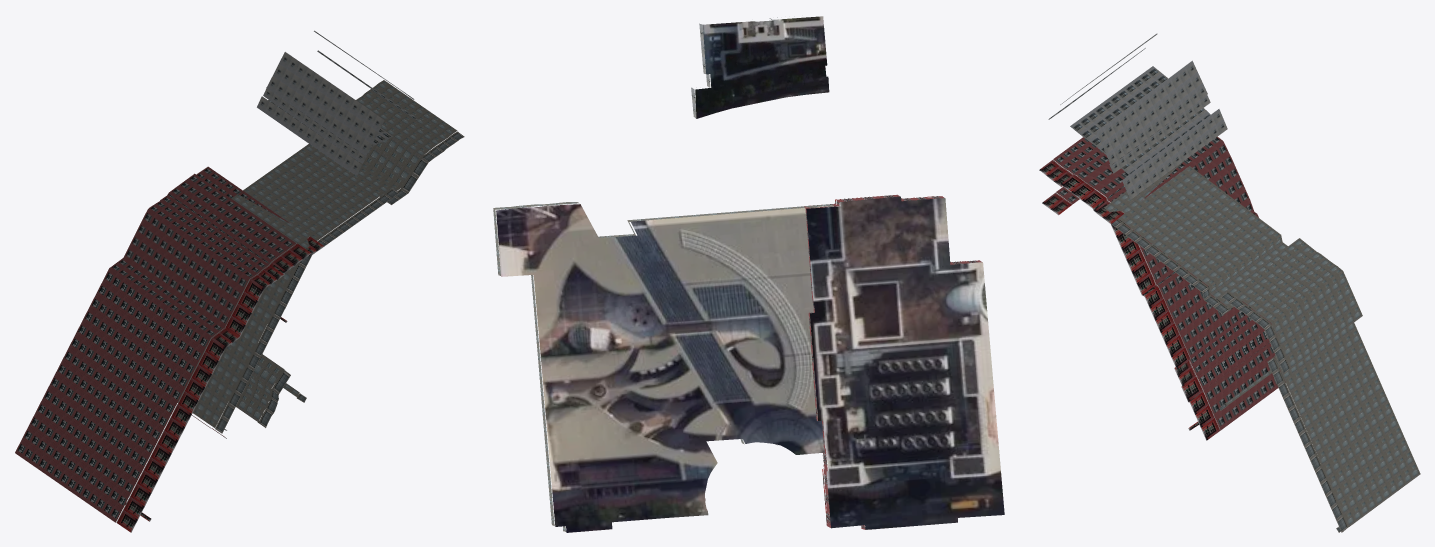
The model's file is tile_LOD4_r6_c15.glb.
3 renders of one model, left to right at view 1: azimuth 30°, elevation 25°; view 2: azimuth 150°, elevation 25°; view 3: azimuth 270°, elevation 25°, orthographic. The views are drawn at different scales.
Bounding box in the file's own units: 192 × 176 × 137.
11 materials, 11 textured.
